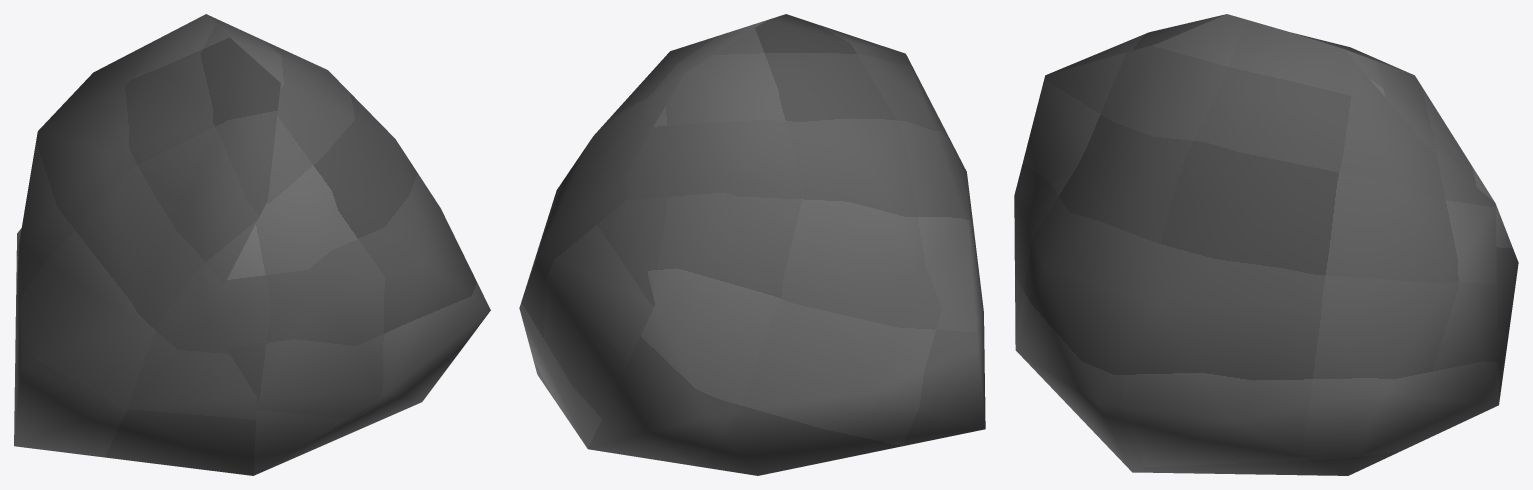
Rendered from Kivi.fbx.
3 renders of one model, left to right at view 1: azimuth 30°, elevation 25°; view 2: azimuth 150°, elevation 25°; view 3: azimuth 270°, elevation 25°, orthographic. The views are drawn at different scales.
Parts seen in each view (by area): view 1: Icosphere; view 2: Icosphere; view 3: Icosphere.
Boxes of the visible parts, <box> form: Icosphere: <box>14,14,490,475</box>; Icosphere: <box>519,14,985,475</box>; Icosphere: <box>1014,14,1518,475</box>.
Size of the model in its own units: 222 by 192 by 221.
